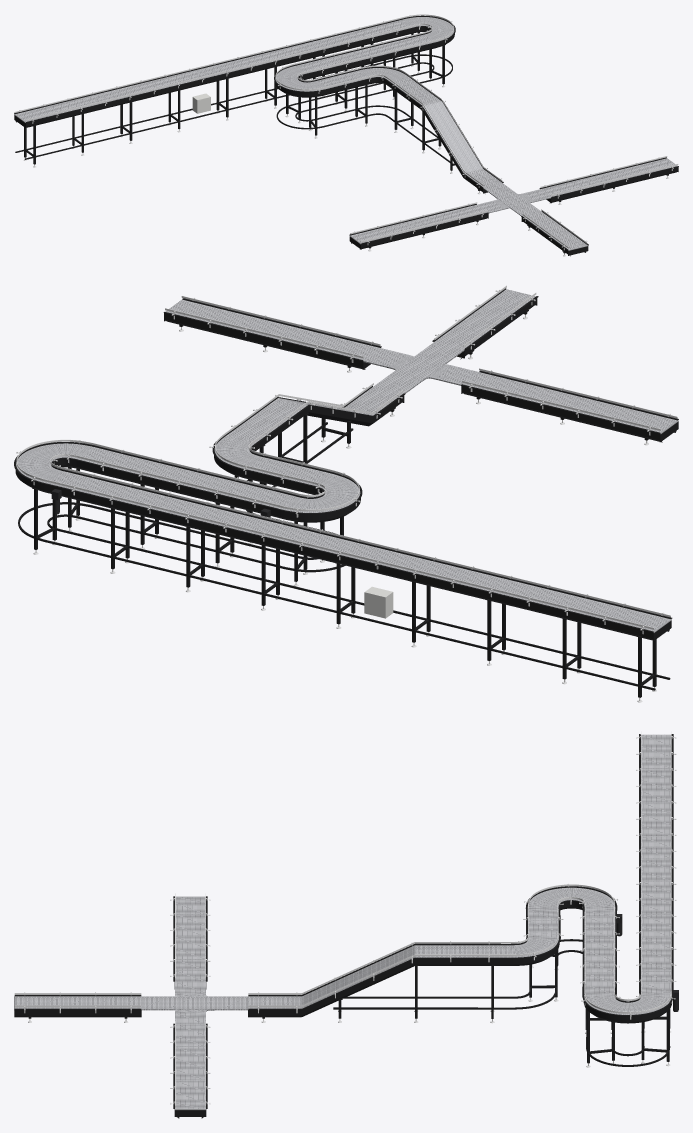
File: DHL_Conveyor_web.glb
3 renders of one model, top to bottom at view 1: azimuth 30°, elevation 25°; view 2: azimuth 150°, elevation 25°; view 3: azimuth 270°, elevation 25°, orthographic. The views are drawn at different scales.
Parts seen in each view (by area): view 1: Conveyor_Belt, Conveyor_Frame, Conveyor_Hardware; view 2: Conveyor_Frame, Conveyor_Belt, Conveyor_Hardware, Conveyor_ControlBox; view 3: Conveyor_Belt, Conveyor_Frame, Conveyor_Hardware.
Part boxes in pixels (box(x1,y1,x2,y2)): Conveyor_Belt: box(14, 17, 677, 250); Conveyor_Frame: box(14, 15, 678, 256); Conveyor_Hardware: box(14, 14, 678, 256); Conveyor_Frame: box(14, 288, 678, 697); Conveyor_Belt: box(16, 289, 678, 632); Conveyor_Hardware: box(16, 285, 677, 702); Conveyor_ControlBox: box(364, 586, 393, 618); Conveyor_Belt: box(14, 734, 671, 1110); Conveyor_Frame: box(14, 734, 673, 1118); Conveyor_Hardware: box(14, 731, 676, 1117).
Size of the model in its own units: 14.92 by 1.48 by 12.95.
5 materials, 1 textured.
